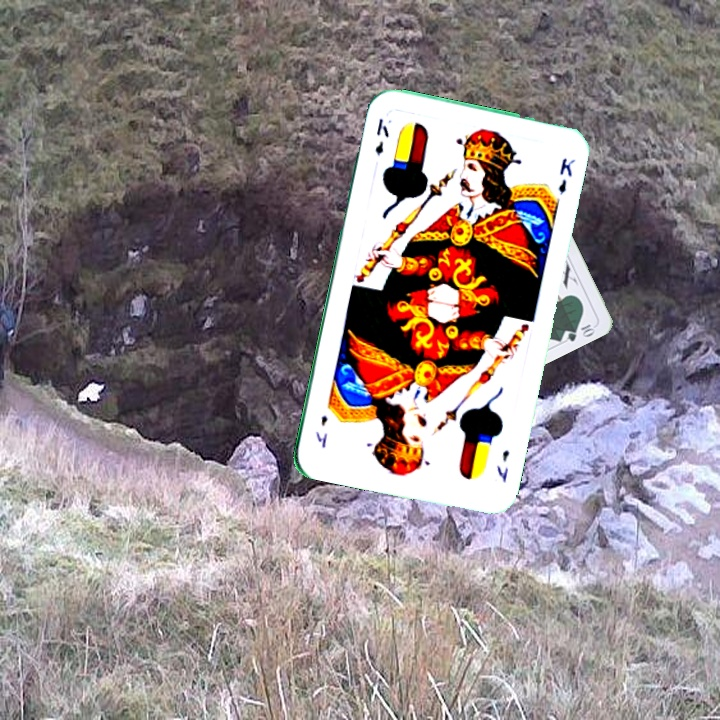EK: (371, 114, 392, 158), (492, 446, 512, 485)
